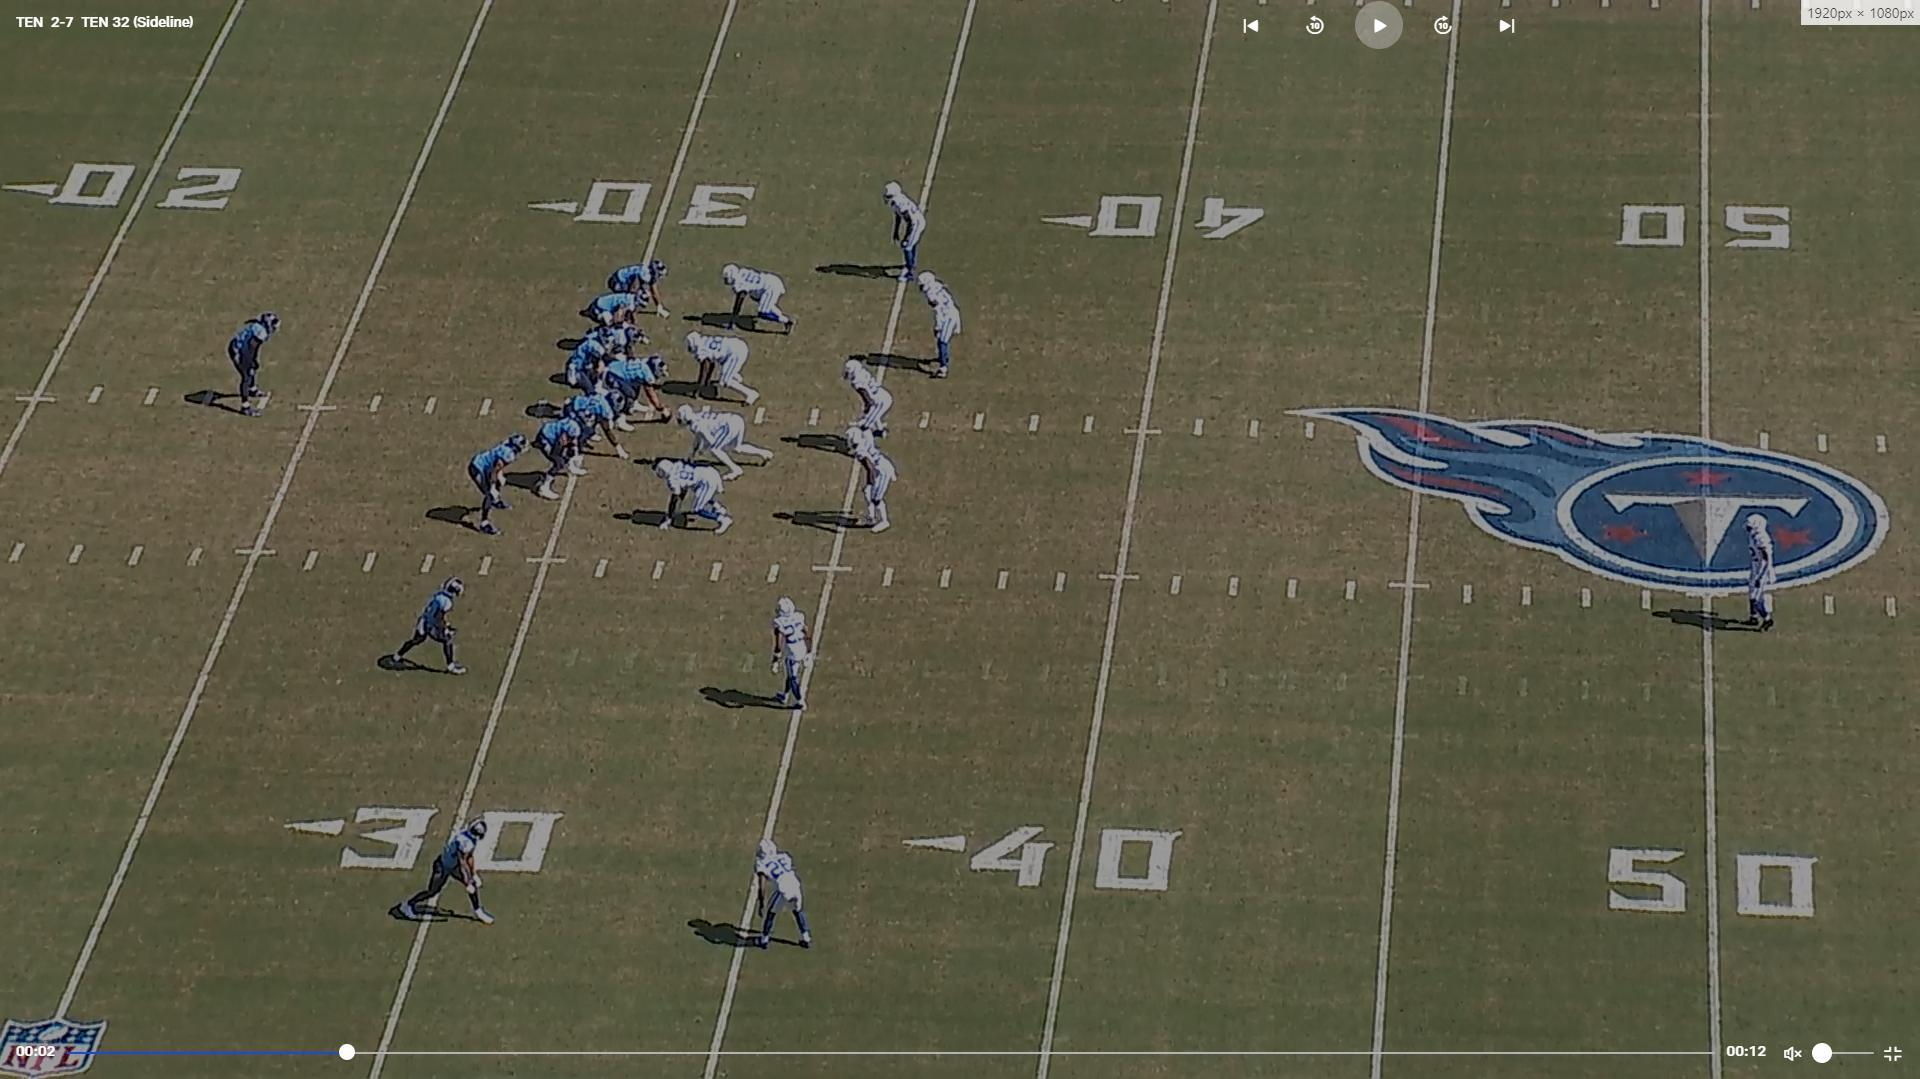defense: (748, 835, 828, 962), (679, 401, 775, 480), (840, 421, 899, 536), (650, 455, 733, 536), (769, 596, 823, 716), (687, 328, 766, 409), (720, 261, 802, 338), (839, 356, 895, 459), (1739, 509, 1785, 632), (918, 266, 965, 380), (877, 179, 922, 288)
oline: (526, 414, 595, 501), (597, 356, 673, 433), (554, 388, 622, 459), (580, 286, 653, 339), (591, 323, 651, 371)
qb: (549, 327, 611, 394)
skill: (392, 813, 506, 935), (376, 570, 479, 679), (469, 430, 534, 538), (224, 309, 284, 418), (596, 256, 671, 318)
